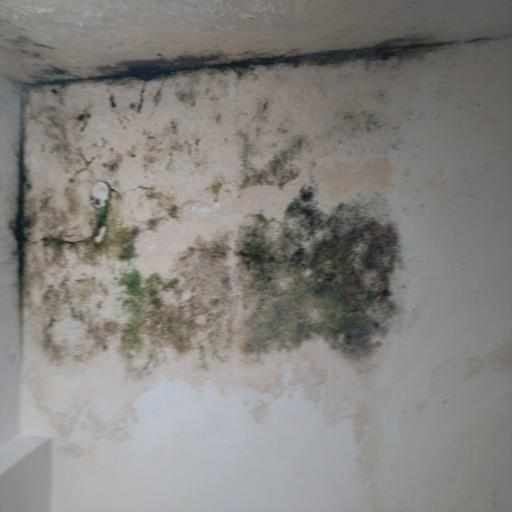algae: (0, 30, 421, 396)
